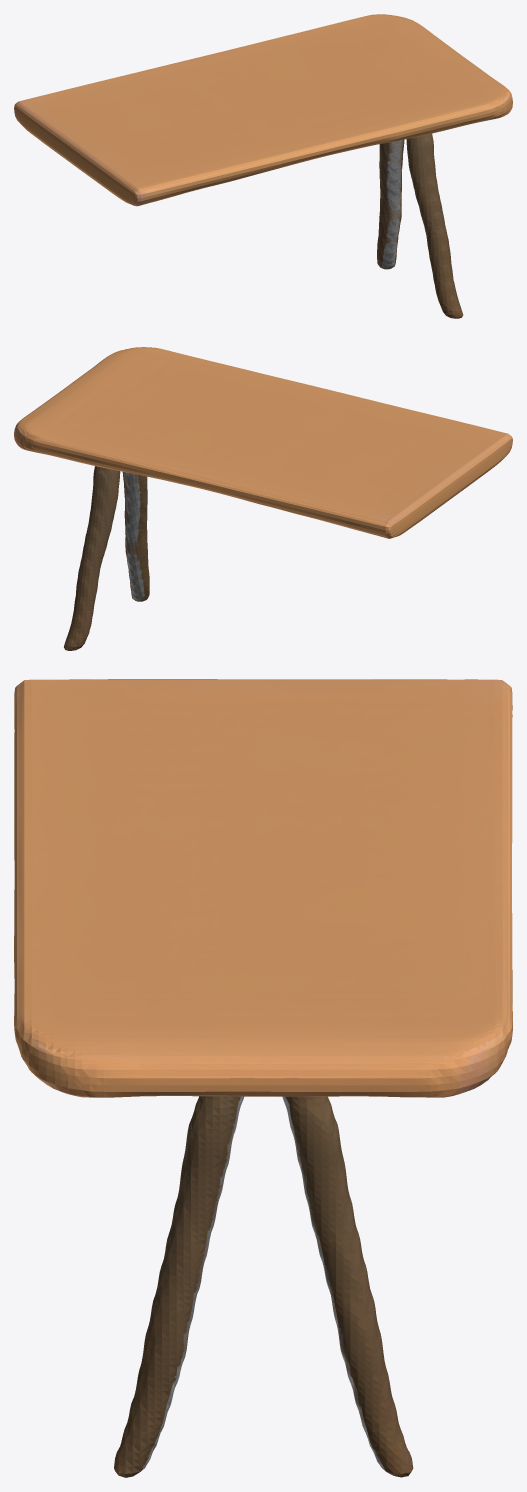
The model's file is table2.glb.
3 views of the same model, one above another, from view 1: azimuth 30°, elevation 25°; view 2: azimuth 150°, elevation 25°; view 3: azimuth 270°, elevation 25° (orthographic). The views are drawn at different scales.
Visible parts, largest first — view 1: tmpnf86l9z0.ply; view 2: tmpnf86l9z0.ply; view 3: tmpnf86l9z0.ply.
Part boxes in pixels (<box>): tmpnf86l9z0.ply: <box>14,14,512,318</box>; tmpnf86l9z0.ply: <box>14,347,512,650</box>; tmpnf86l9z0.ply: <box>14,679,512,1477</box>.
Bounding box in the file's own units: 1.96 × 1.1 × 1.08.
Materials: 1 (1 with a texture image).
